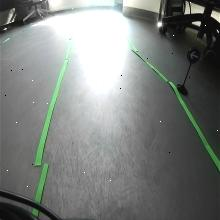left: (187, 46, 201, 64)
